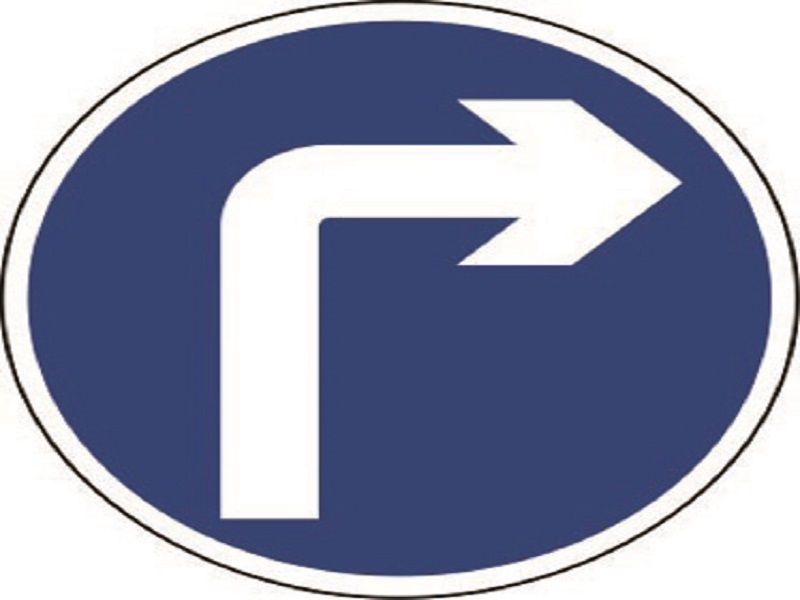sagaDon: (138, 85, 693, 533)
